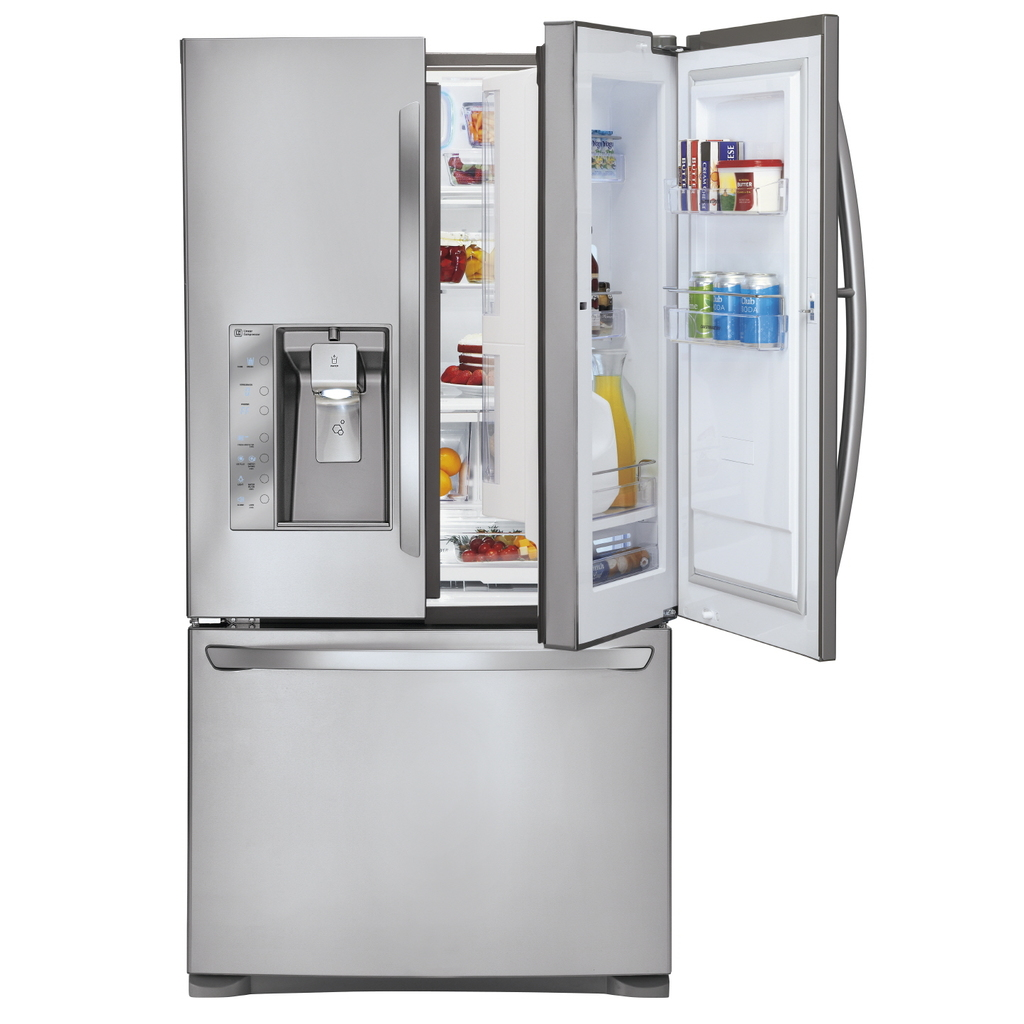handle: (835, 105, 878, 550), (207, 646, 650, 678), (395, 108, 425, 546)
refrigerator door: (190, 624, 663, 978), (183, 44, 422, 599), (682, 64, 822, 623), (554, 46, 679, 610)
